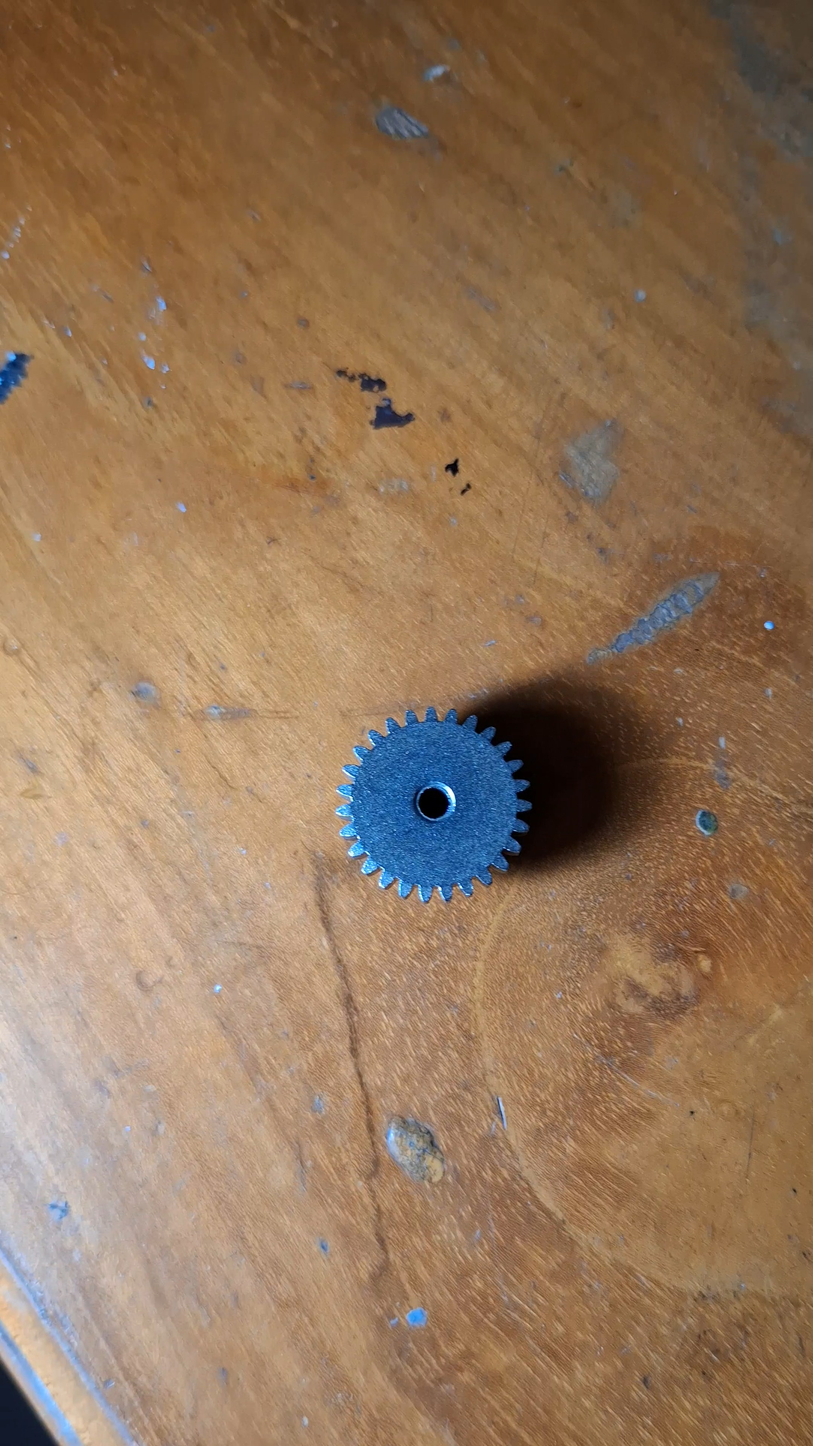spur gear: (337, 708, 530, 902)
